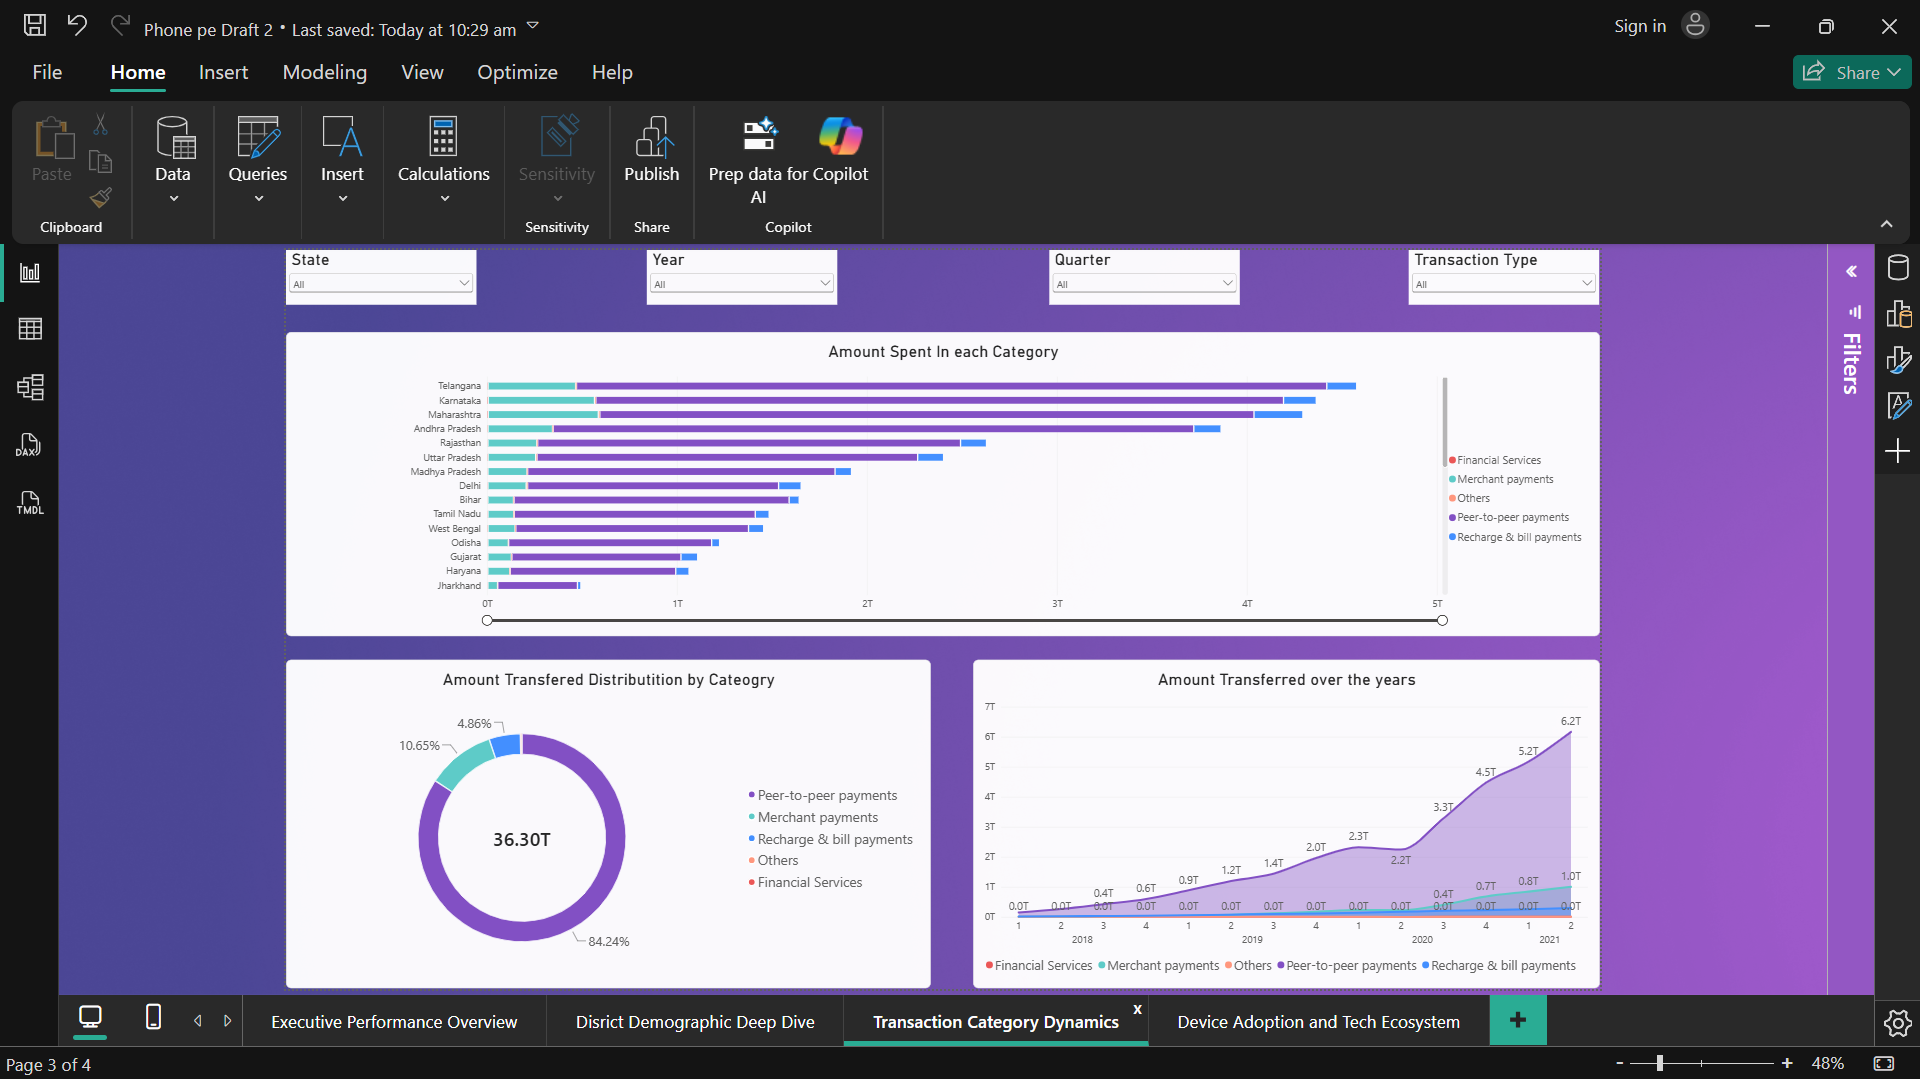

Layout of this report page (visuals, bound fields, positions):
{"tool":"powerbi","page":{"name":"Transaction Category Dynamics","canvas":[1920,1080],"ordinal":2},"visuals":[{"type":"slicer","fields":{"Values":["phone_pe_db vw_dim_state.State"]},"box":[-0.9,0,278.3,80.1],"z":0},{"type":"slicer","fields":{"Values":["phone_pe_db vw_dim_time.Year"]},"box":[527.1,0,278.3,80.1],"z":1000},{"type":"slicer","fields":{"Values":["phone_pe_db vw_dim_time.Quarter"]},"box":[1114.6,0,278.3,80.1],"z":2000},{"type":"slicer","fields":{"Values":["phone_pe_db vw_state_txn_category.Transaction Type"]},"box":[1641,0,278.3,80.1],"z":3000},{"type":"barChart","title":"Amount Spent In each Category","fields":{"Category":["phone_pe_db vw_dim_state.State"],"Series":["phone_pe_db vw_state_txn_category.Transaction Type"],"Y":["Sum(phone_pe_db vw_state_txn_category.Amount (INR))"]},"box":[0,119.4,1919.6,444.5],"z":4000},{"type":"donutChart","title":"Amount Transfered Distributition by Cateogry","fields":{"Category":["phone_pe_db vw_state_txn_category.Transaction Type"],"Y":["Sum(phone_pe_db vw_state_txn_category.Amount (INR))"]},"box":[0,599.3,942.1,479.9],"z":5000},{"type":"areaChart","title":"Amount Transferred over the years","fields":{"Category":["phone_pe_db vw_dim_time.Year","phone_pe_db vw_dim_time.Quarter"],"Series":["phone_pe_db vw_state_txn_category.Transaction Type"],"Y":["Sum(phone_pe_db vw_state_txn_category.Amount (INR))"]},"box":[1004,599.3,915.6,479.9],"z":6000}]}

Visuals, with their boxes on the page's 1920x1080 design canvas (x1, y1, x2, y2). These are canvas units, not pixel positions in the 1920x1079 screenshot, which may show the page scaled, cropped or inside an application window:
slicer - phone_pe_db vw_dim_state.State: <region>-1, 0, 277, 80</region>
slicer - phone_pe_db vw_dim_time.Year: <region>527, 0, 805, 80</region>
slicer - phone_pe_db vw_dim_time.Quarter: <region>1115, 0, 1393, 80</region>
slicer - phone_pe_db vw_state_txn_category.Transaction Type: <region>1641, 0, 1919, 80</region>
"Amount Spent In each Category" barChart: <region>0, 119, 1920, 564</region>
"Amount Transfered Distributition by Cateogry" donutChart: <region>0, 599, 942, 1079</region>
"Amount Transferred over the years" areaChart: <region>1004, 599, 1920, 1079</region>
